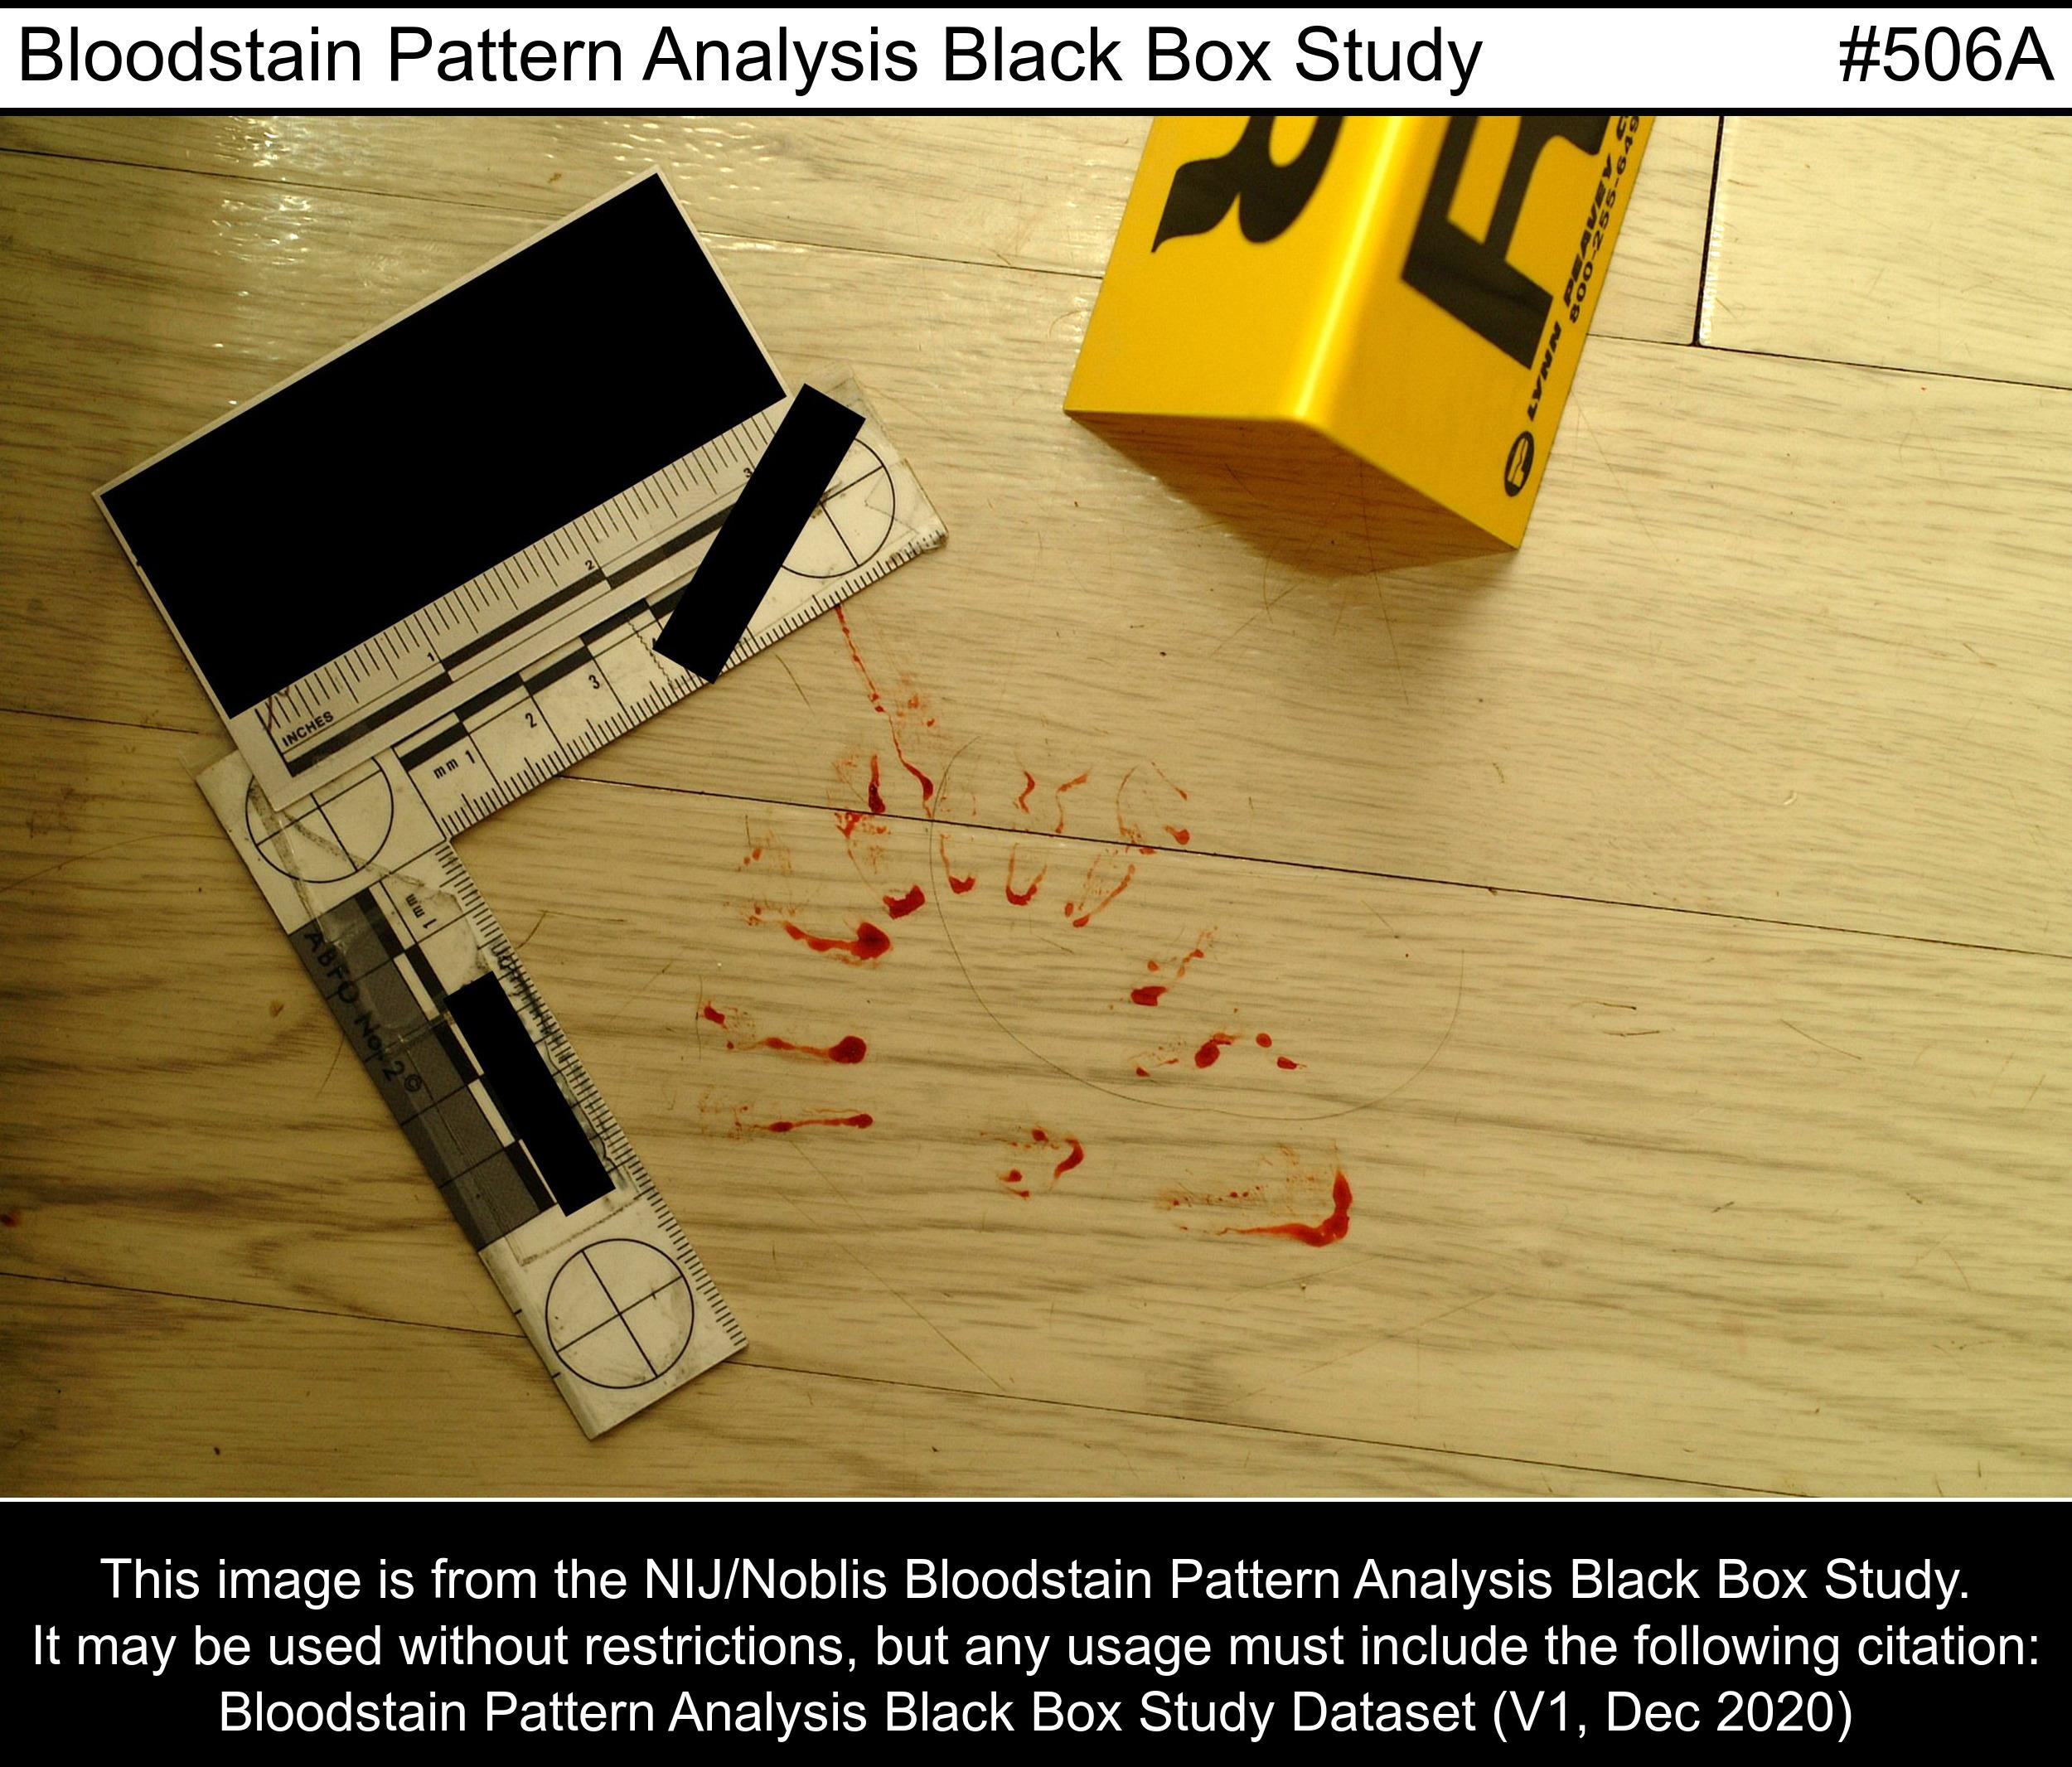Transfer: (694, 757, 1476, 1266)
